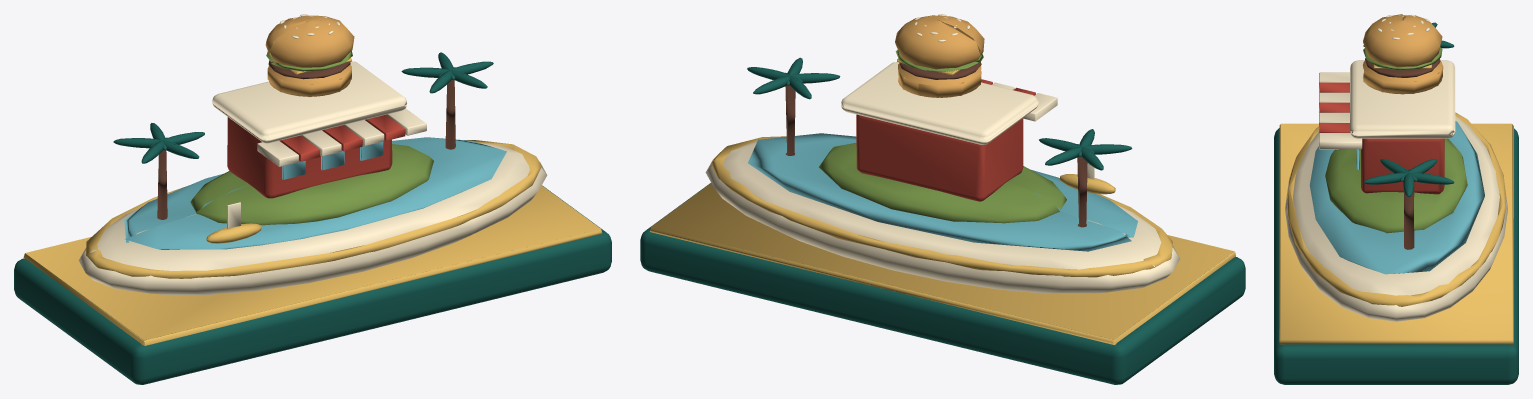
3 renders of one model, left to right at view 1: azimuth 30°, elevation 25°; view 2: azimuth 150°, elevation 25°; view 3: azimuth 270°, elevation 25°, orthographic. The views are drawn at different scales.
Parts seen in each view (by area): view 1: Porcelain world platter, Jade footing, Brass welt, Island lagoon, Restaurant island, Tiny restaurant, Lower bun, Patty, Little boat; view 2: Jade footing, Porcelain world platter, Brass welt, Island lagoon, Tiny restaurant, Restaurant island, Lower bun, Patty, Little boat; view 3: Brass welt, Porcelain world platter, Jade footing, Island lagoon, Restaurant island, Lower bun, Tiny restaurant, Patty.
Boxes of the visible parts, box(x1,y1,x2,y2) form: Porcelain world platter: box(78, 14, 547, 294); Jade footing: box(14, 52, 611, 384); Brass welt: box(23, 51, 602, 345); Island lagoon: box(124, 137, 506, 249); Restaurant island: box(190, 51, 433, 225); Tiny restaurant: box(227, 114, 405, 198); Lower bun: box(265, 15, 354, 96); Patty: box(157, 60, 455, 219); Little boat: box(206, 223, 262, 243); Jade footing: box(640, 57, 1245, 384); Porcelain world platter: box(705, 14, 1180, 293); Brass welt: box(650, 58, 1235, 344); Island lagoon: box(748, 133, 1137, 251); Tiny restaurant: box(856, 79, 1035, 201); Restaurant island: box(819, 49, 1066, 223); Lower bun: box(895, 15, 984, 97); Patty: box(785, 62, 1087, 227); Little boat: box(1059, 174, 1115, 194); Brass welt: box(1279, 64, 1513, 344); Porcelain world platter: box(1285, 14, 1507, 321); Jade footing: box(1274, 22, 1518, 384); Island lagoon: box(1309, 121, 1484, 274); Restaurant island: box(1325, 47, 1467, 233); Lower bun: box(1362, 14, 1443, 94); Tiny restaurant: box(1319, 82, 1444, 194); Patty: box(1365, 58, 1440, 249).
Bounding box in the file's own units: 1.73 × 0.9101 × 0.79.
